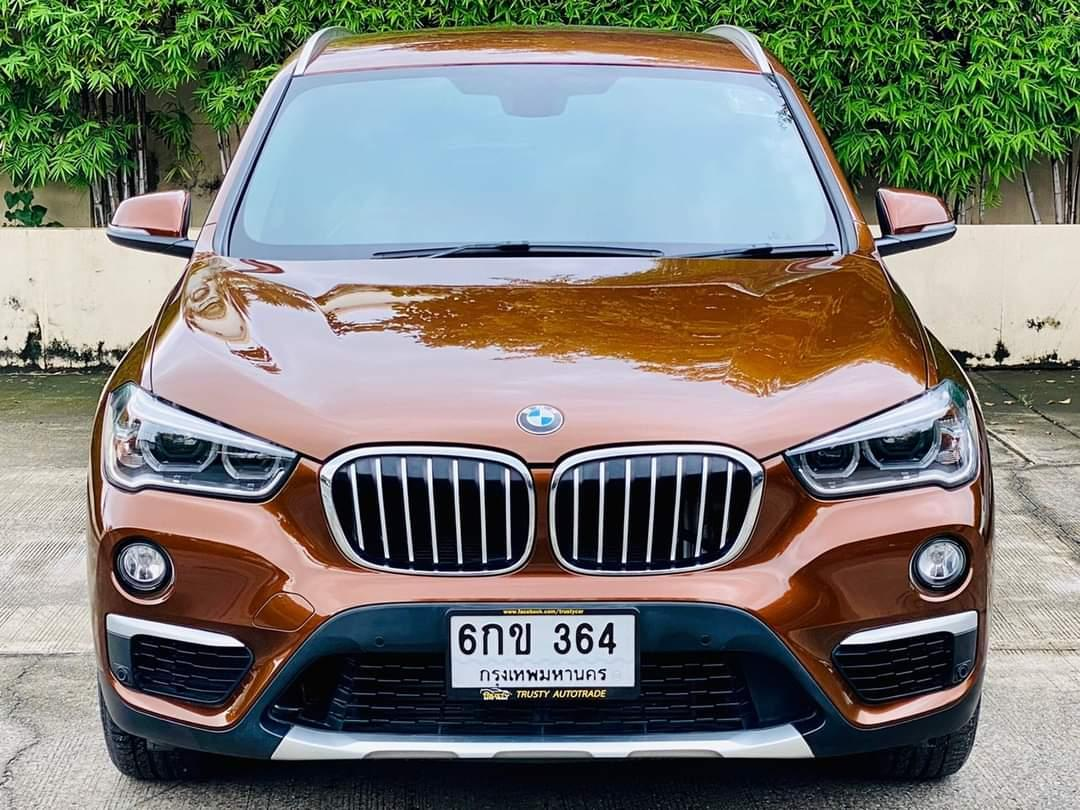license-plate: (443, 606, 644, 711)
